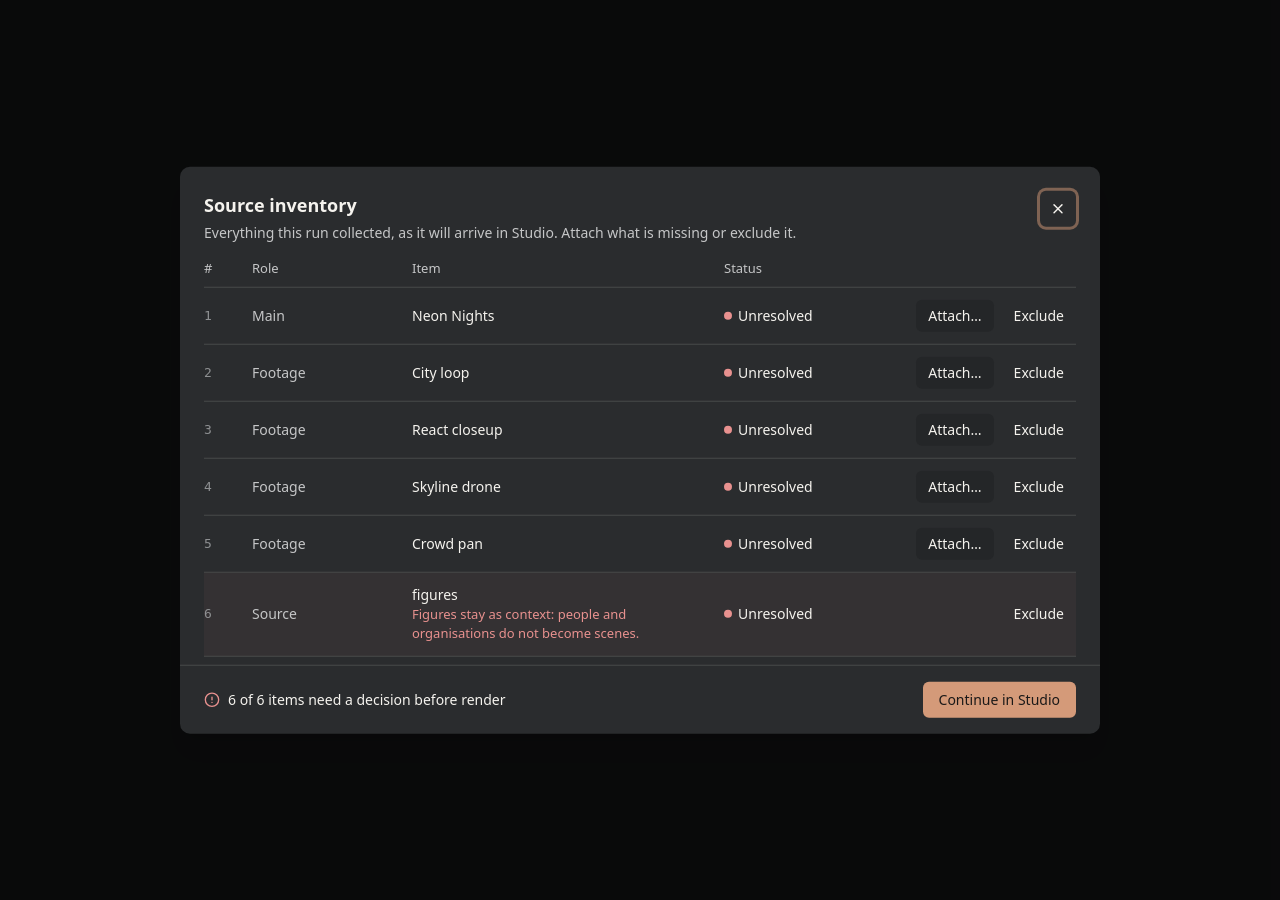
a ready asset of the item's kind can be attached
The width and height of the screenshot is (1280, 900).
Click the button "Attach…" in the row of "City loop" at [955, 372], box [916, 356, 994, 388]
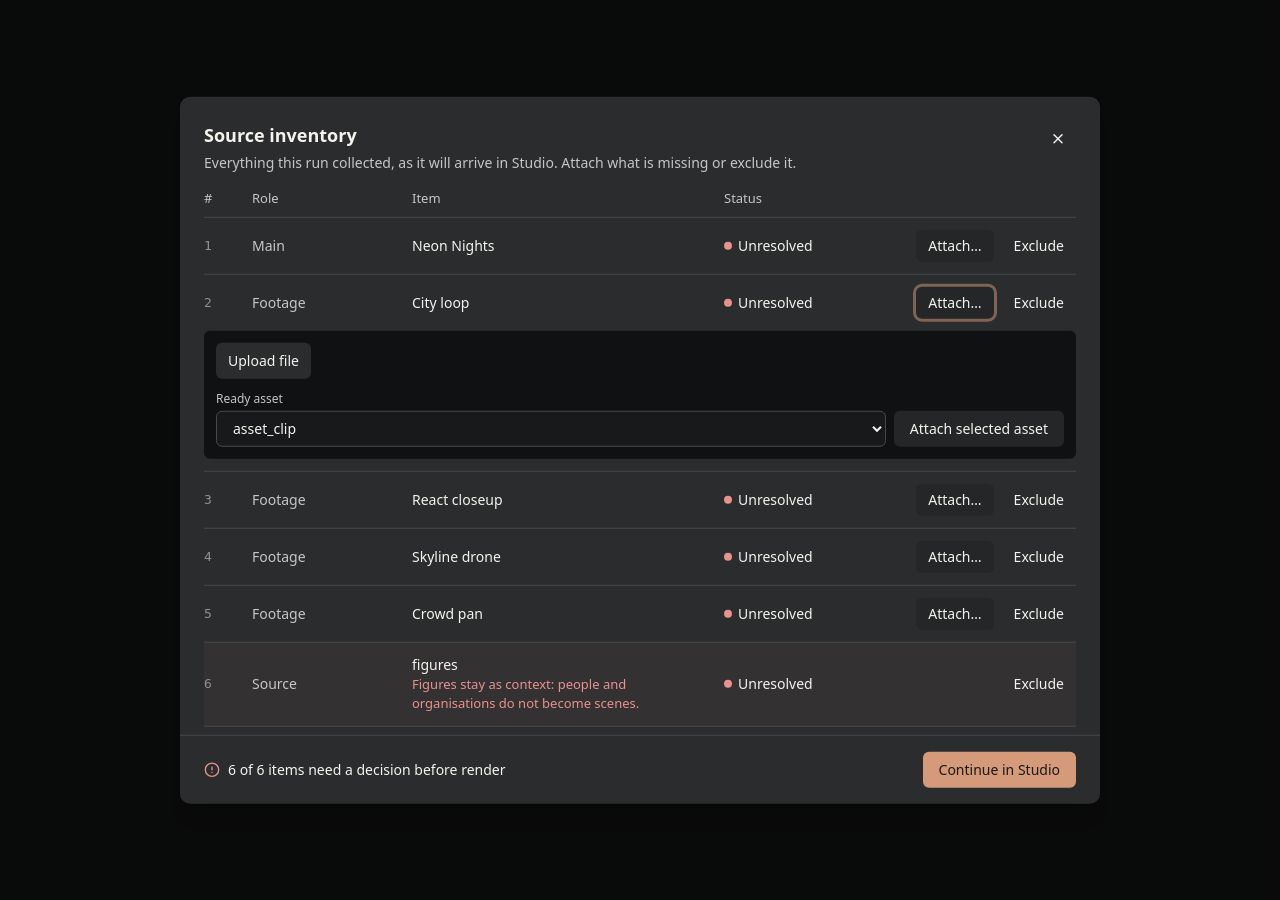
Click the button "Attach selected asset" at [979, 428], box [894, 410, 1064, 446]
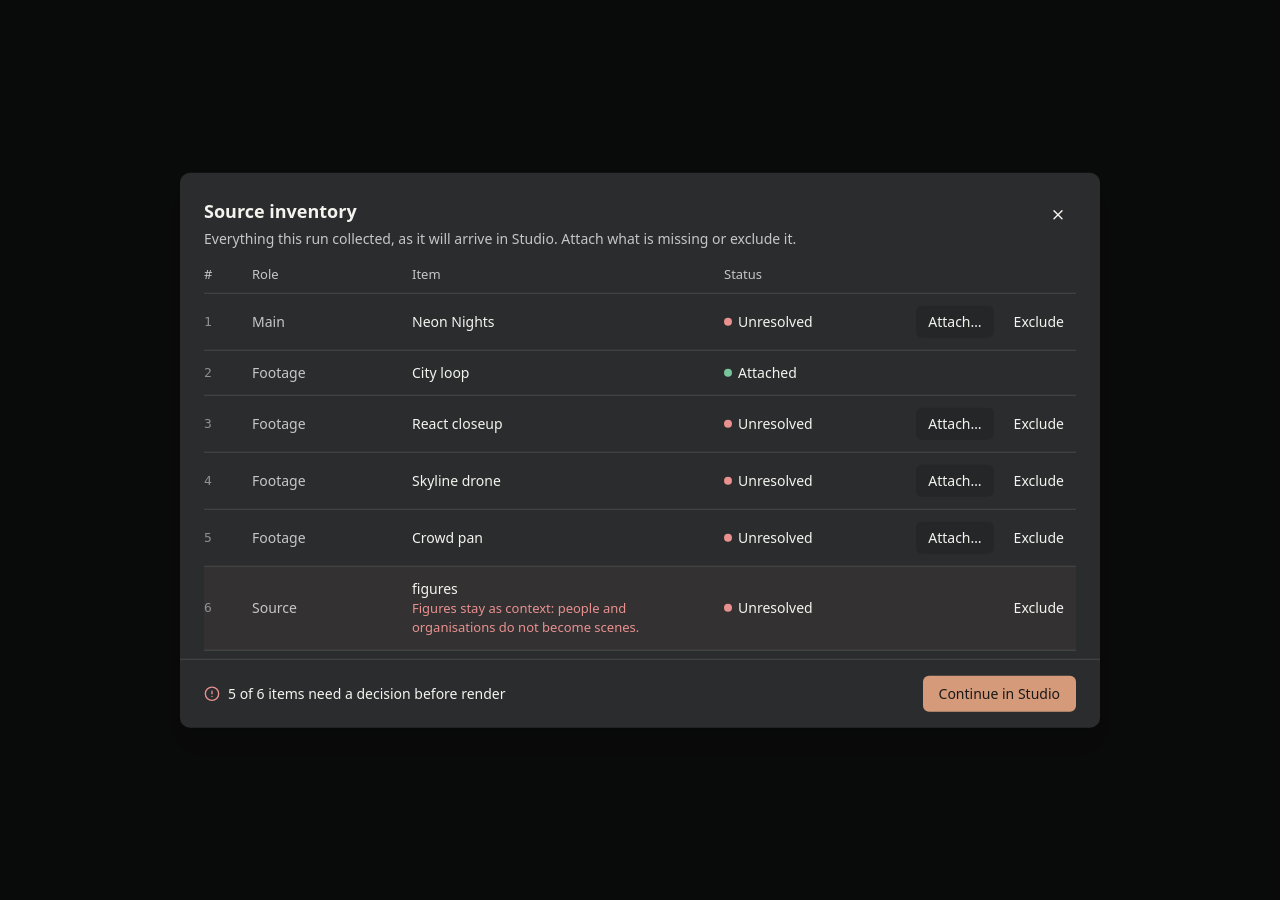
Result: the text "Attached" is shown at [724, 362, 797, 381]
